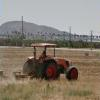Tractor: (15, 35, 80, 90)
